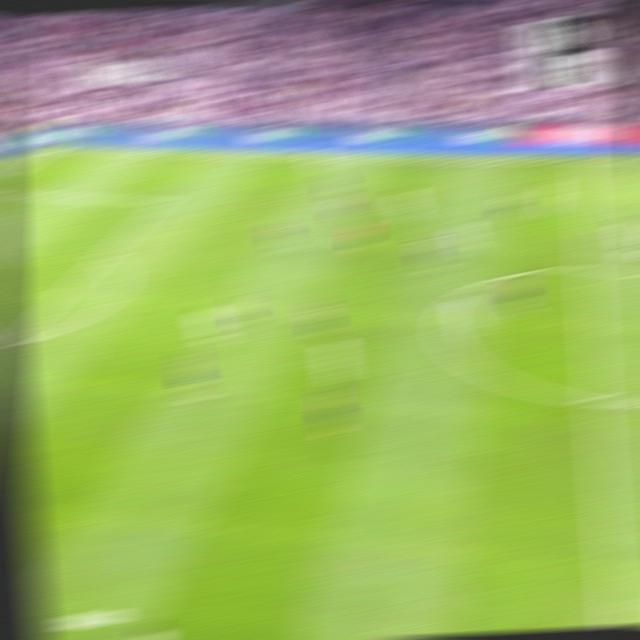bigarea_top_inner: (149, 194, 172, 208)
corner: (42, 145, 67, 153)
halfcircle_bottom: (581, 382, 613, 418)
halfcircle_top: (573, 254, 603, 282)
midline_top_intersection: (571, 156, 594, 168)
top_arc_area_intersection: (92, 248, 115, 262)
